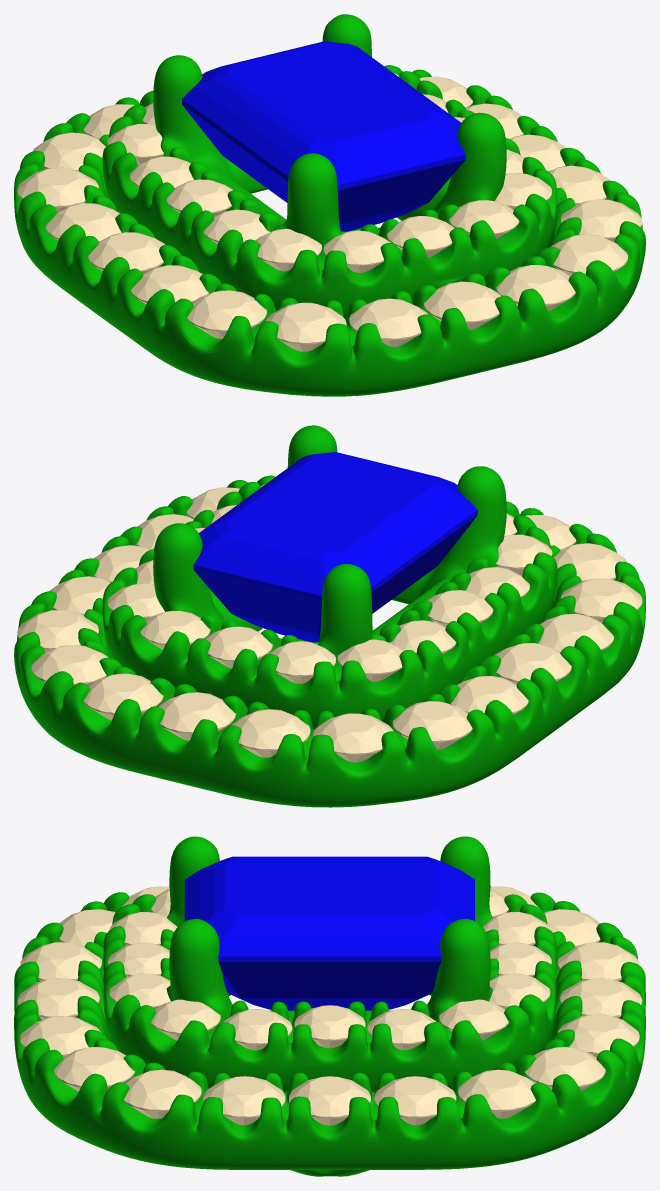
3 views of the same model, one above another, from view 1: azimuth 30°, elevation 25°; view 2: azimuth 150°, elevation 25°; view 3: azimuth 270°, elevation 25° (orthographic).
Visible parts, largest first — view 1: Metal01, Diamond_Emerald, Diamond_Round.018, Diamond_Round.019, Diamond_Round.017, Diamond_Round.016, Diamond_Round.001, Diamond_Round.004, Diamond_Round.003, Diamond_Round.015, Diamond_Round.014, Diamond_Round (+16 smaller); view 2: Metal01, Diamond_Emerald, Diamond_Round.005, Diamond_Round.004, Diamond_Round.006, Diamond_Round.007, Diamond_Round.008, Diamond_Round.019, Diamond_Round.003, Diamond_Round.009, Diamond_Round.010, Diamond_Round.002 (+16 smaller); view 3: Metal01, Diamond_Emerald, Diamond_Round.014, Diamond_Round.010, Diamond_Round.013, Diamond_Round.011, Diamond_Round.012, Diamond_Round.009, Diamond_Round.015, Diamond_Round.016, Diamond_Round.008, Diamond_Round.007 (+16 smaller).
Boxes of the visible parts, <box> form: Metal01: <box>14,14,645,396</box>; Diamond_Emerald: <box>182,41,465,231</box>; Diamond_Round.018: <box>266,302,346,351</box>; Diamond_Round.019: <box>187,290,266,338</box>; Diamond_Round.017: <box>349,298,428,346</box>; Diamond_Round.016: <box>424,281,501,329</box>; Diamond_Round.001: <box>496,265,575,310</box>; Diamond_Round.004: <box>17,167,98,212</box>; Diamond_Round.003: <box>88,232,164,273</box>; Diamond_Round.015: <box>551,234,627,276</box>; Diamond_Round.014: <box>561,199,642,242</box>; Diamond_Round: <box>131,265,208,304</box>; Metal01: <box>14,425,645,807</box>; Diamond_Emerald: <box>193,452,477,642</box>; Diamond_Round.005: <box>313,713,393,762</box>; Diamond_Round.004: <box>392,701,472,749</box>; Diamond_Round.006: <box>231,709,310,757</box>; Diamond_Round.007: <box>158,692,235,740</box>; Diamond_Round.008: <box>84,673,163,720</box>; Diamond_Round.019: <box>561,578,642,622</box>; Diamond_Round.003: <box>495,643,571,684</box>; Diamond_Round.009: <box>31,645,108,685</box>; Diamond_Round.010: <box>17,610,98,652</box>; Diamond_Round.002: <box>451,676,528,714</box>; Metal01: <box>14,836,645,1176</box>; Diamond_Emerald: <box>184,856,474,1010</box>; Diamond_Round.014: <box>124,1069,201,1118</box>; Diamond_Round.010: <box>458,1069,535,1118</box>; Diamond_Round.013: <box>203,1076,285,1125</box>; Diamond_Round.011: <box>374,1076,456,1125</box>; Diamond_Round.012: <box>289,1076,370,1125</box>; Diamond_Round.009: <box>525,1046,605,1091</box>; Diamond_Round.015: <box>54,1046,134,1091</box>; Diamond_Round.016: <box>17,978,99,1019</box>; Diamond_Round.008: <box>558,1014,639,1057</box>; Diamond_Round.007: <box>560,978,642,1018</box>.
Size of the model in its own units: 10.19 by 5.75 by 11.56.
